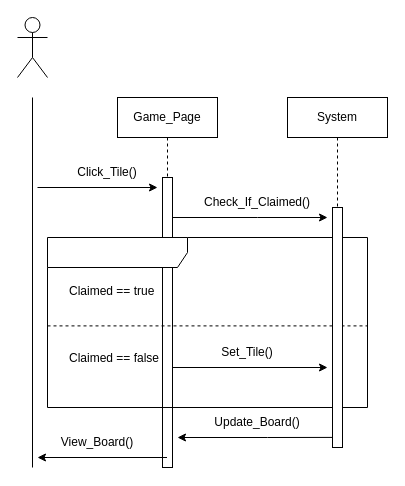
This 405x486 diagram has some shape labels left out. Here are the shapes that lost their labels. From the top down, the box of each, then its label:
(16, 16, 48, 78): User
(46, 236, 368, 408): Alternate
